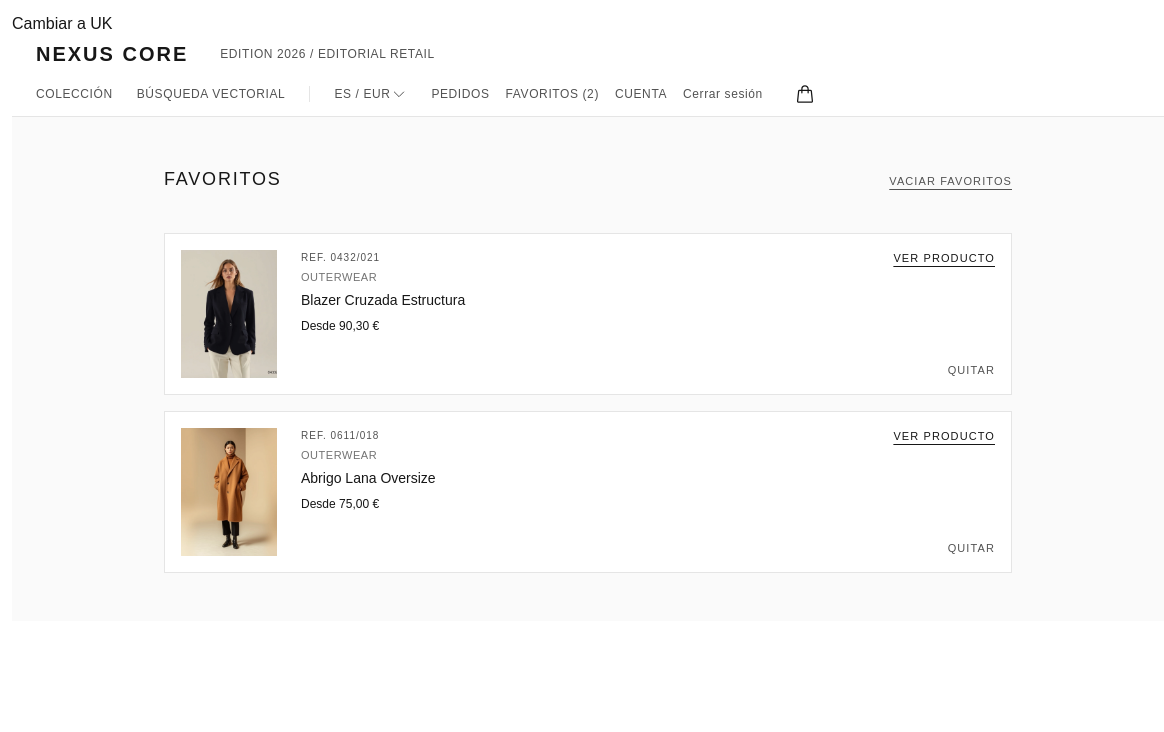
WishlistPage › «Quitar»: borra la fila vía DELETE y confirma con toast (R7.2)
Click the button with aria-label "Quitar Blazer Cruzada Estructura de favoritos": x=971, y=370 [948,362,995,378]
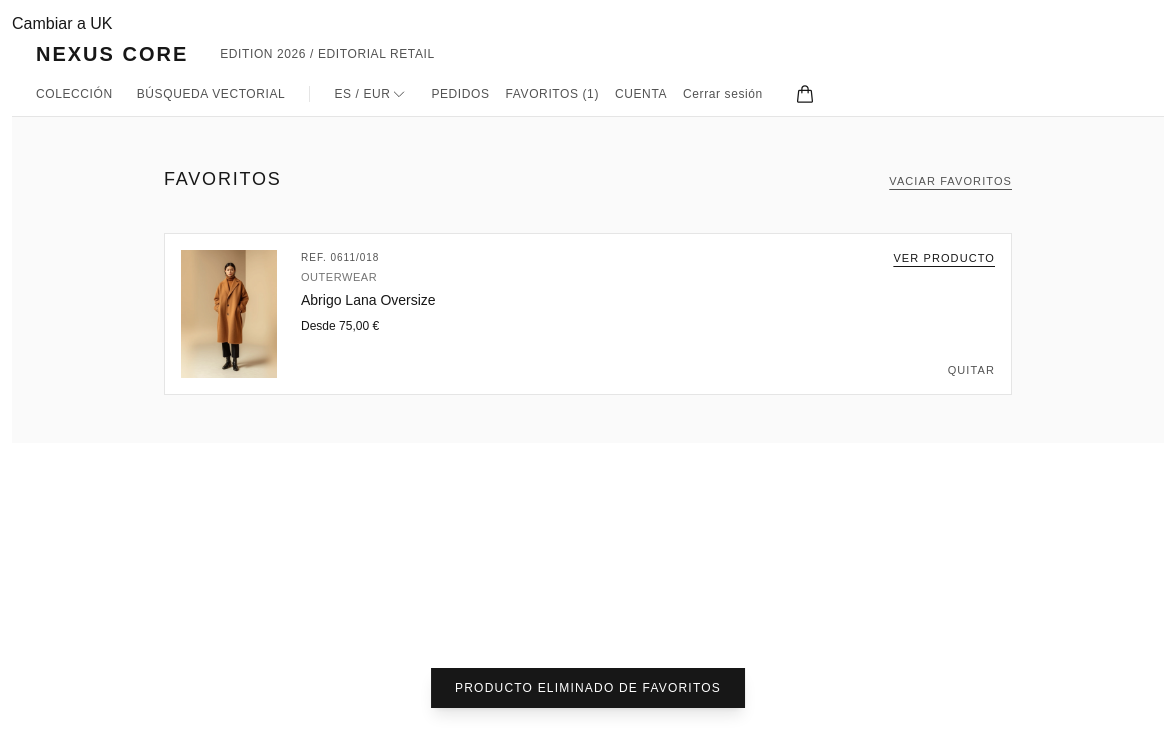
Check: the heading "Abrigo Lana Oversize" is shown, box [301,292,436,308]
Check: the heading "Blazer Cruzada Estructura" is gone
Check: the message reads "Producto eliminado de favoritos", box [455,681,721,695]
